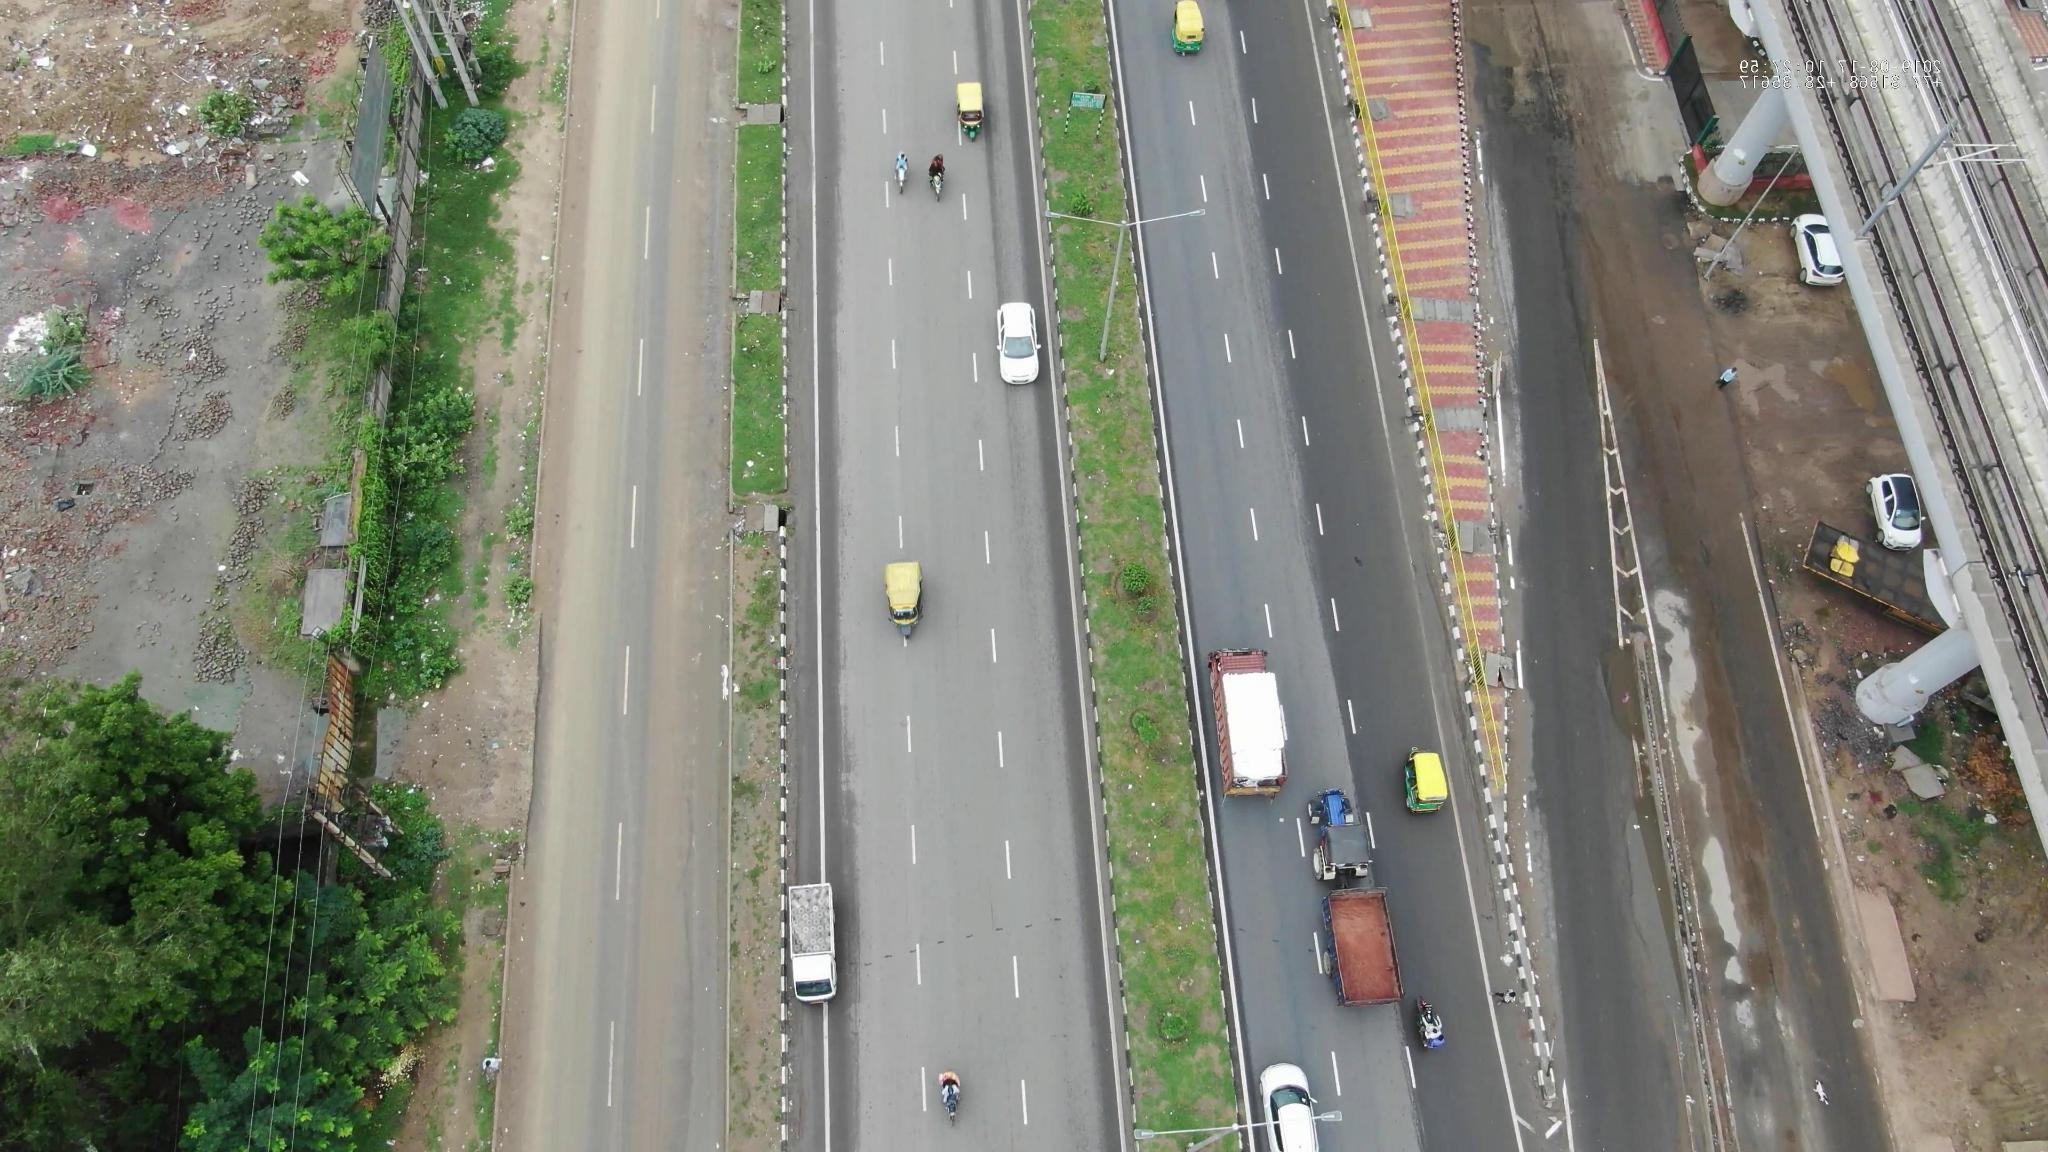Muddy_road: (509, 806, 605, 1127), (540, 23, 650, 269), (641, 816, 716, 1137), (533, 494, 612, 786), (537, 271, 625, 488), (670, 271, 743, 520), (657, 544, 730, 786), (679, 18, 745, 253)
Waterlogging: (1587, 615, 1661, 755)
